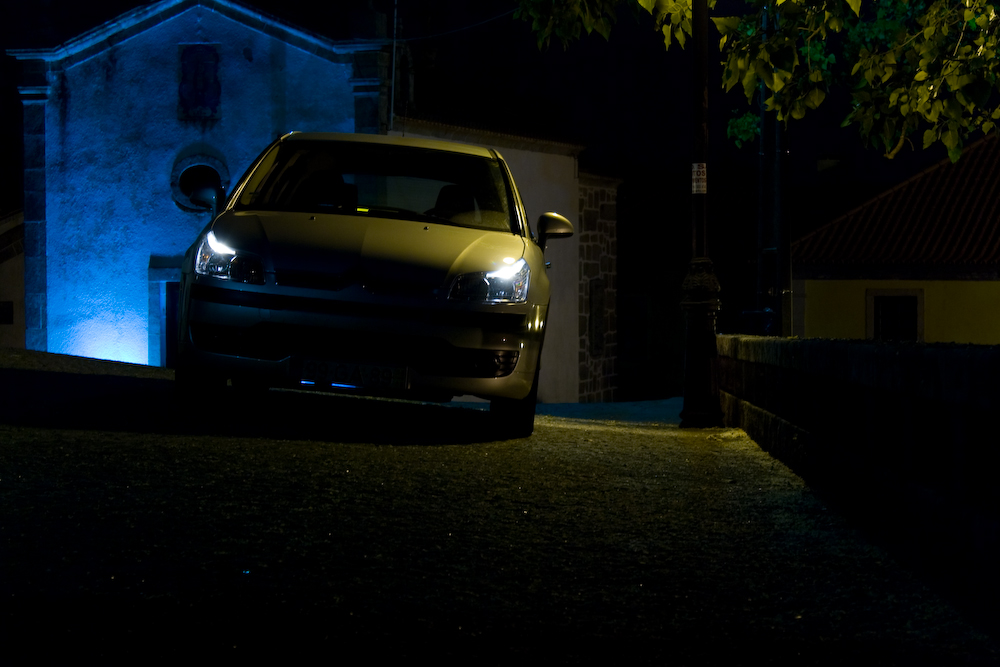car: (165, 123, 576, 451)
